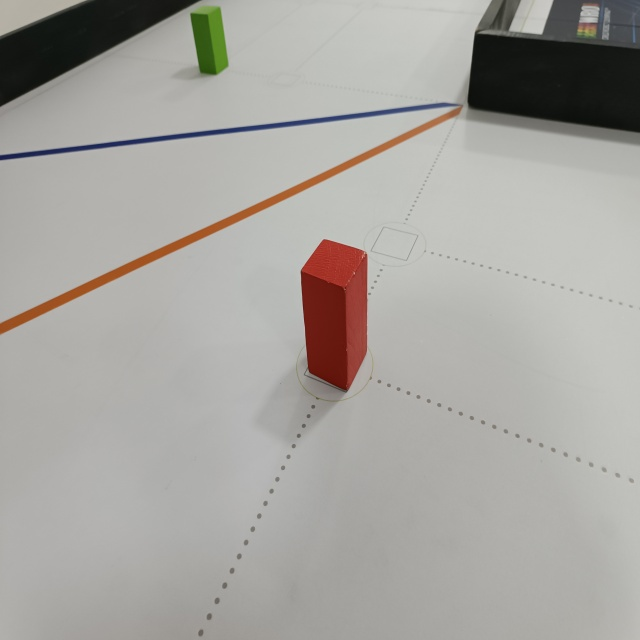blue line: (0, 99, 455, 168)
green rectangular prism: (188, 5, 229, 78)
orange line: (0, 102, 467, 336)
red rectangular prism: (298, 235, 371, 396)
